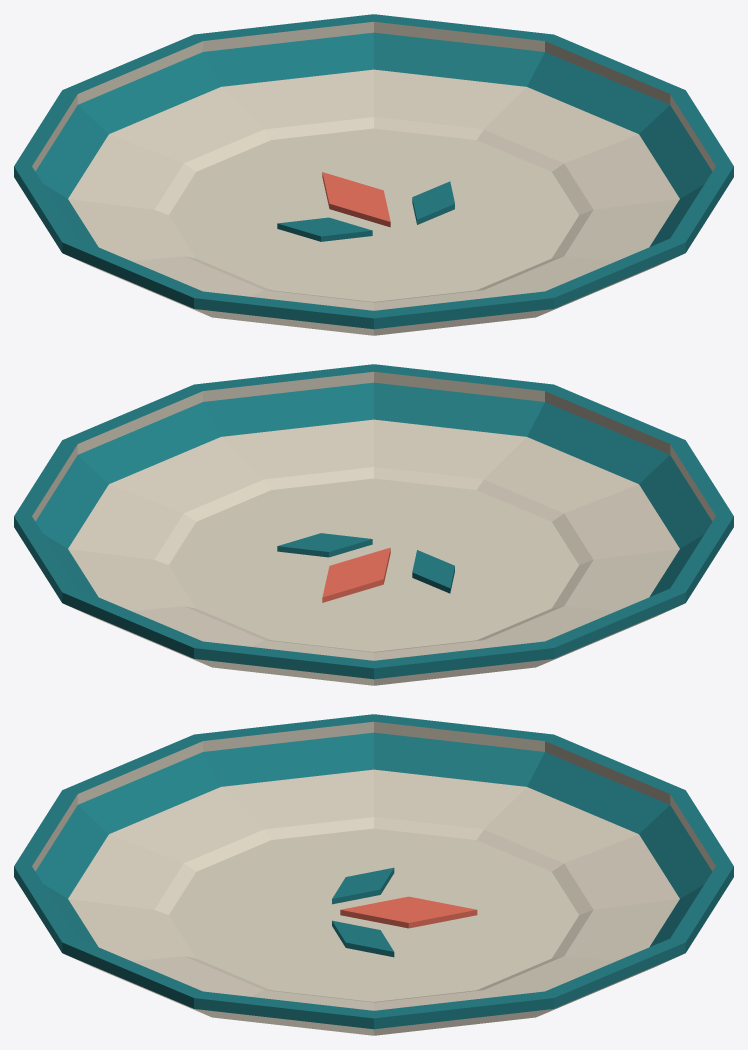
The model's file is plate.glb.
3 views of the same model, one above another, from view 1: azimuth 30°, elevation 25°; view 2: azimuth 150°, elevation 25°; view 3: azimuth 270°, elevation 25° (orthographic).
Visible parts, largest first — view 1: plate; view 2: plate; view 3: plate.
Boxes of the visible parts, bbox=[...] form: plate: bbox=[14, 14, 733, 335]; plate: bbox=[14, 364, 733, 685]; plate: bbox=[14, 714, 733, 1035].
Bounding box in the file's own units: 0.24 × 0.024 × 0.24.
